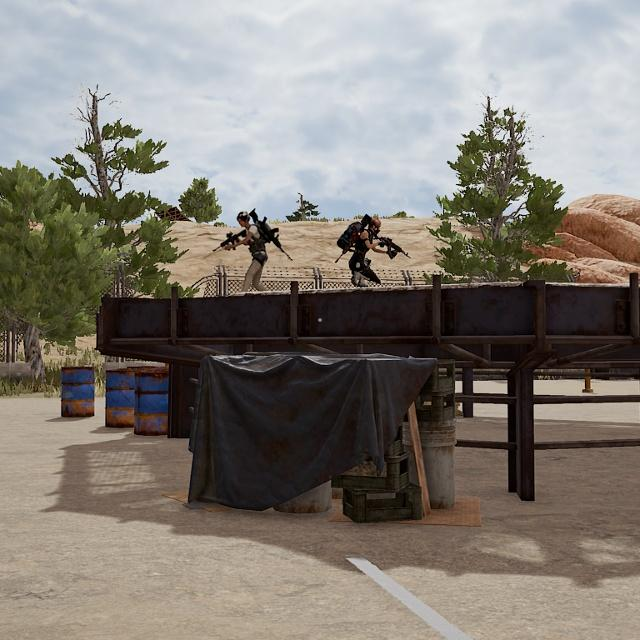head: (236, 210, 252, 229), (366, 217, 382, 235)
people: (235, 210, 270, 292), (348, 216, 383, 288)
